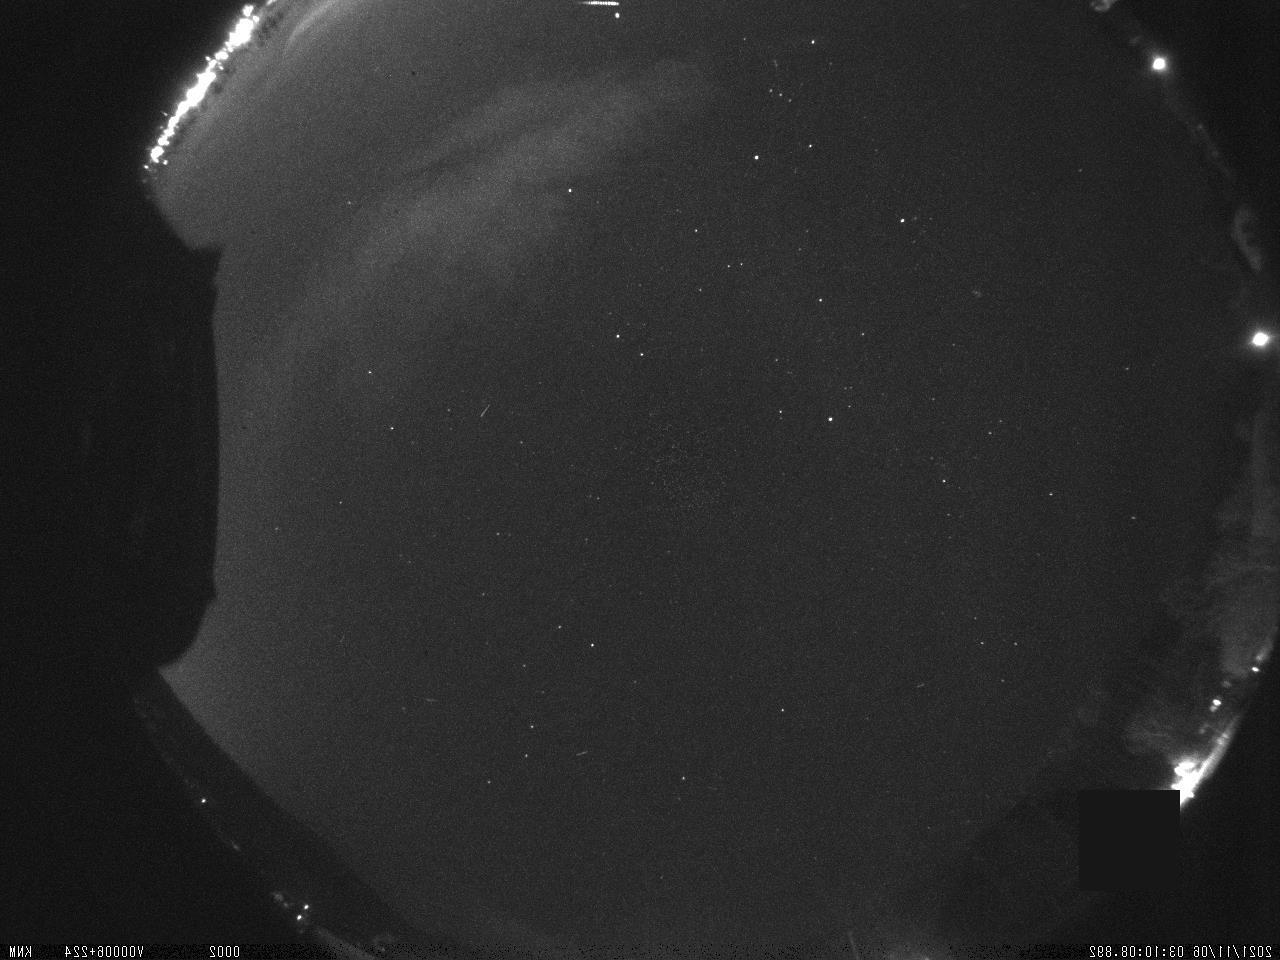meteor: (569, 740, 594, 762)
